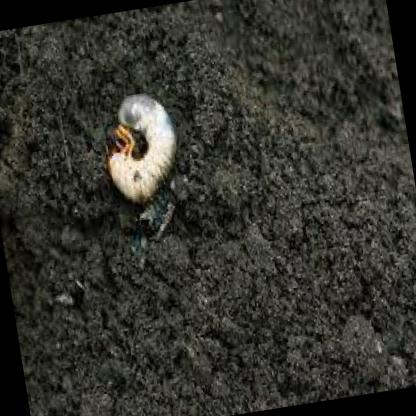root grubs: (106, 94, 176, 209)
